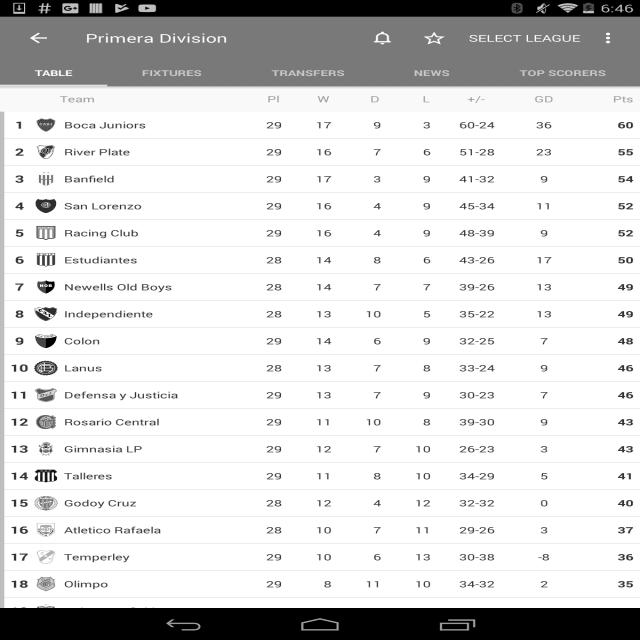ImageButton: (9, 17, 68, 59)
ImageView: (589, 22, 631, 54), (32, 117, 58, 133), (32, 144, 58, 160), (32, 171, 58, 187), (32, 198, 58, 214), (32, 225, 58, 241), (32, 252, 58, 268), (32, 279, 58, 295), (32, 306, 58, 322), (32, 333, 58, 349), (32, 360, 58, 376), (32, 387, 58, 403), (32, 414, 58, 430), (32, 441, 58, 457), (32, 468, 58, 484), (32, 495, 58, 511), (32, 522, 58, 538), (32, 549, 58, 565), (32, 576, 58, 592), (32, 603, 58, 619)
TextView: (484, 59, 640, 86), (460, 22, 589, 54), (237, 59, 379, 86), (107, 59, 237, 86), (60, 90, 231, 108), (64, 116, 235, 134), (64, 143, 235, 161), (64, 170, 235, 188), (64, 197, 235, 215), (64, 224, 235, 242), (64, 251, 235, 269), (64, 278, 235, 296), (64, 305, 235, 323), (64, 332, 235, 350), (64, 359, 235, 377), (64, 386, 235, 404), (64, 413, 235, 431), (64, 440, 235, 458), (64, 467, 235, 485), (64, 494, 235, 512), (64, 521, 235, 539), (64, 548, 235, 566), (64, 575, 235, 593), (64, 602, 235, 620), (0, 59, 107, 86), (379, 59, 484, 86), (86, 30, 228, 46), (408, 22, 459, 54), (358, 22, 408, 54), (432, 90, 518, 108), (433, 116, 518, 134), (433, 143, 518, 161), (433, 170, 518, 188), (433, 197, 518, 215), (433, 224, 518, 242), (433, 251, 518, 269), (433, 278, 518, 296), (433, 305, 518, 323), (433, 332, 518, 350), (433, 359, 518, 377), (433, 386, 518, 404), (433, 413, 518, 431), (433, 440, 518, 458), (433, 467, 518, 485), (433, 494, 518, 512), (433, 521, 518, 539), (433, 548, 518, 566), (433, 575, 518, 593), (433, 602, 518, 620), (568, 90, 640, 108), (568, 116, 640, 134), (568, 143, 640, 161), (568, 170, 640, 188), (568, 197, 640, 215), (568, 224, 640, 242), (568, 251, 640, 269), (568, 278, 640, 296), (568, 305, 640, 323), (568, 332, 640, 350), (568, 359, 640, 377), (568, 386, 640, 404), (568, 413, 640, 431), (568, 440, 640, 458), (568, 467, 640, 485), (568, 494, 640, 512), (568, 521, 640, 539), (568, 548, 640, 566), (568, 575, 640, 593), (568, 602, 640, 620), (232, 90, 282, 108), (282, 90, 332, 108), (332, 90, 382, 108), (382, 90, 432, 108), (518, 90, 568, 108), (284, 116, 334, 134), (518, 116, 568, 134), (284, 143, 334, 161), (518, 143, 568, 161), (284, 170, 334, 188), (518, 170, 568, 188), (284, 197, 334, 215), (518, 197, 568, 215), (284, 224, 334, 242), (518, 224, 568, 242), (284, 251, 334, 269), (518, 251, 568, 269), (284, 278, 334, 296), (518, 278, 568, 296), (284, 305, 334, 323), (518, 305, 568, 323), (284, 332, 334, 350), (518, 332, 568, 350), (284, 359, 334, 377), (518, 359, 568, 377), (284, 386, 334, 404), (518, 386, 568, 404), (284, 413, 334, 431), (518, 413, 568, 431), (284, 440, 334, 458), (518, 440, 568, 458), (284, 467, 334, 485), (518, 467, 568, 485), (284, 494, 334, 512), (518, 494, 568, 512), (284, 521, 334, 539), (518, 521, 568, 539), (284, 548, 334, 566), (518, 548, 568, 566), (284, 575, 334, 593), (518, 575, 568, 593), (284, 602, 334, 620), (518, 602, 568, 620), (235, 116, 284, 134), (334, 116, 383, 134), (384, 116, 433, 134), (235, 143, 284, 161), (334, 143, 383, 161), (384, 143, 433, 161), (235, 170, 284, 188), (334, 170, 383, 188), (384, 170, 433, 188), (235, 197, 284, 215), (334, 197, 383, 215), (384, 197, 433, 215), (235, 224, 284, 242), (334, 224, 383, 242), (384, 224, 433, 242), (235, 251, 284, 269), (334, 251, 383, 269), (384, 251, 433, 269), (235, 278, 284, 296), (334, 278, 383, 296), (384, 278, 433, 296), (235, 305, 284, 323), (334, 305, 383, 323), (384, 305, 433, 323), (235, 332, 284, 350), (334, 332, 383, 350), (384, 332, 433, 350), (235, 359, 284, 377), (334, 359, 383, 377), (384, 359, 433, 377), (235, 386, 284, 404), (334, 386, 383, 404), (384, 386, 433, 404), (235, 413, 284, 431), (334, 413, 383, 431), (384, 413, 433, 431), (235, 440, 284, 458), (334, 440, 383, 458), (384, 440, 433, 458), (235, 467, 284, 485), (334, 467, 383, 485), (384, 467, 433, 485), (235, 494, 284, 512), (334, 494, 383, 512), (384, 494, 433, 512), (235, 521, 284, 539), (334, 521, 383, 539), (384, 521, 433, 539), (235, 548, 284, 566), (334, 548, 383, 566), (384, 548, 433, 566), (235, 575, 284, 593), (334, 575, 383, 593), (384, 575, 433, 593), (235, 602, 284, 620), (334, 602, 383, 620), (384, 602, 433, 620), (8, 112, 30, 138), (8, 139, 30, 165), (8, 166, 30, 192), (8, 193, 30, 219), (8, 220, 30, 246), (8, 247, 30, 273), (8, 274, 30, 300), (8, 301, 30, 327), (8, 328, 30, 354), (8, 355, 30, 381), (8, 382, 30, 408), (8, 409, 30, 435), (8, 436, 30, 462), (8, 463, 30, 489), (8, 490, 30, 516), (8, 517, 30, 543), (8, 544, 30, 570), (8, 571, 30, 597), (8, 598, 30, 624)
